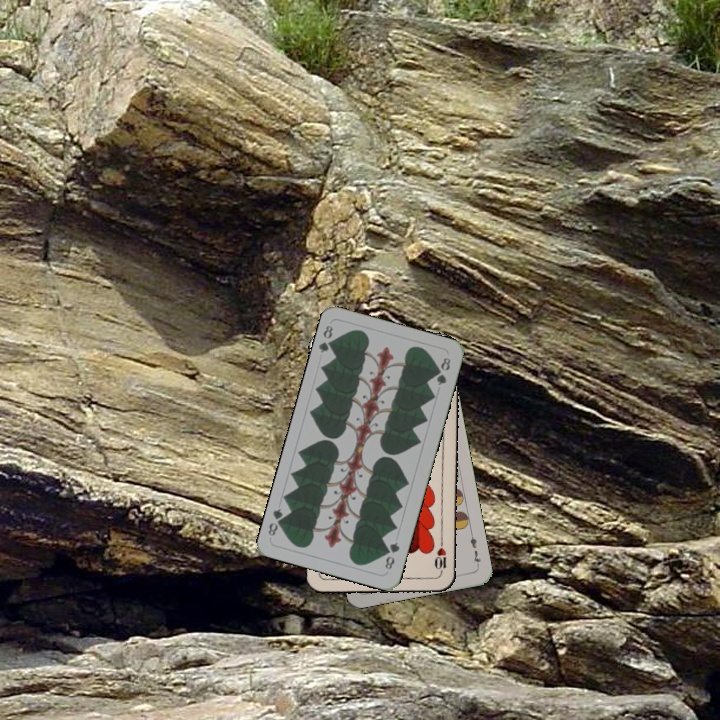E7: (466, 529, 483, 569)
G8: (315, 321, 338, 356), (381, 538, 402, 572)
H10: (431, 536, 449, 577)
